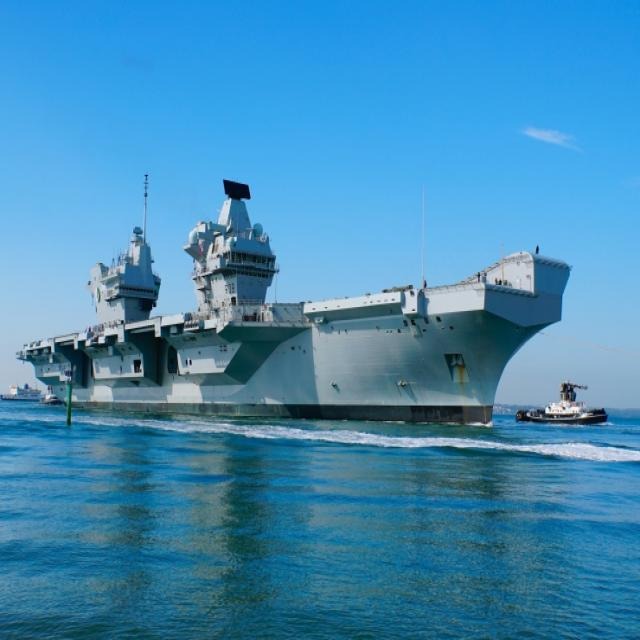Portanaves: (16, 171, 573, 430)
